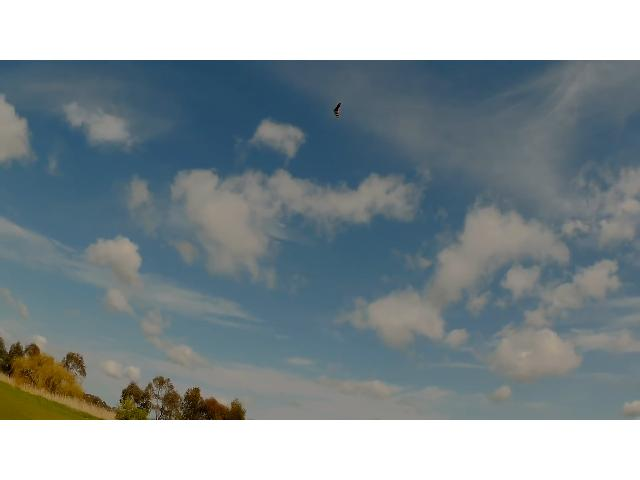Anti-Drone: (334, 103, 342, 118)
